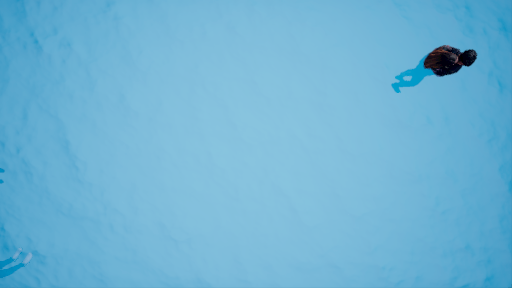person: (388, 41, 480, 101)
